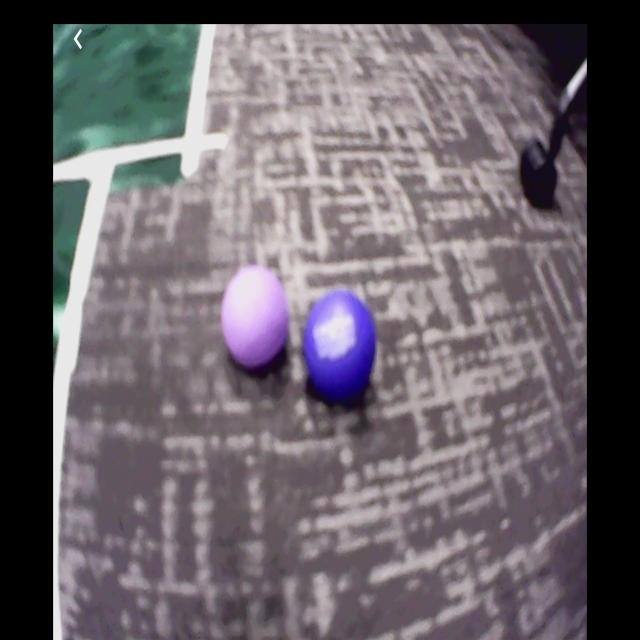ball: (305, 290, 377, 403), (224, 266, 287, 367)
